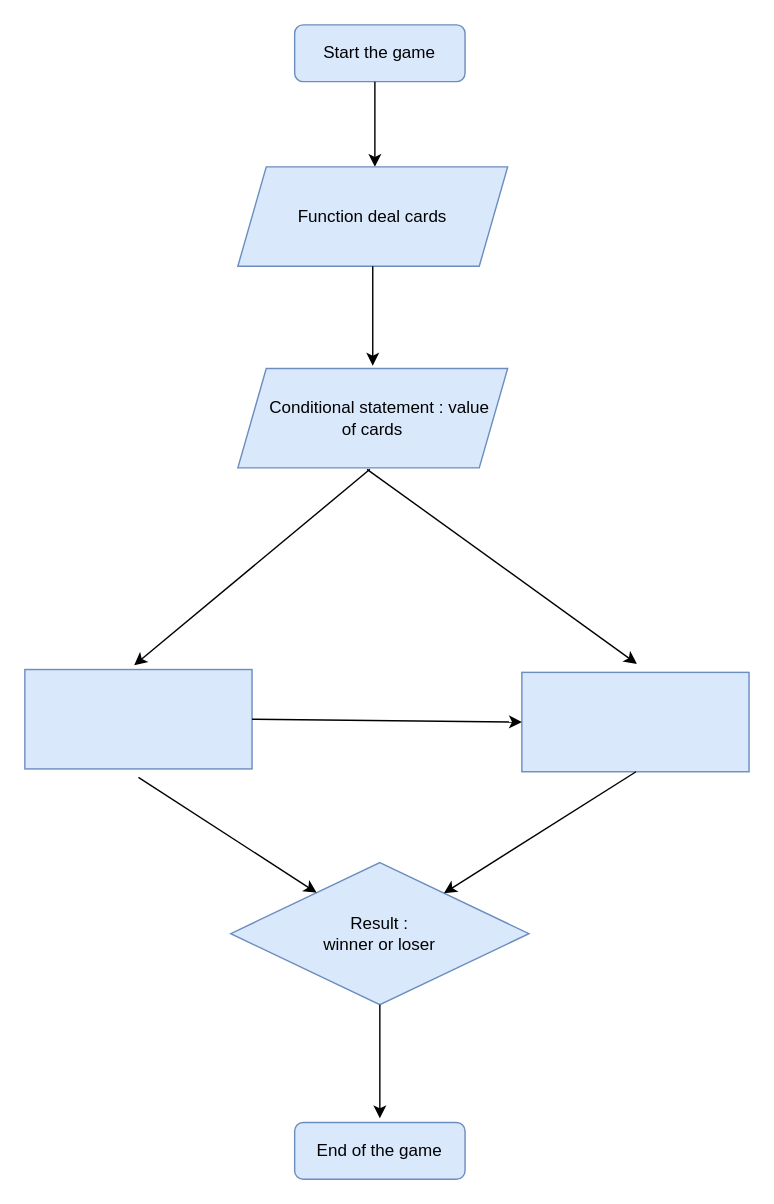
The diagram is 774 pixels wide and 1204 high, and some of its shapes have lost their labels. Each missing label, with the centre of its shape:
First loop: user/player is playing: point (137, 718)
Second loop: computer/dealer is playing: point (634, 721)
